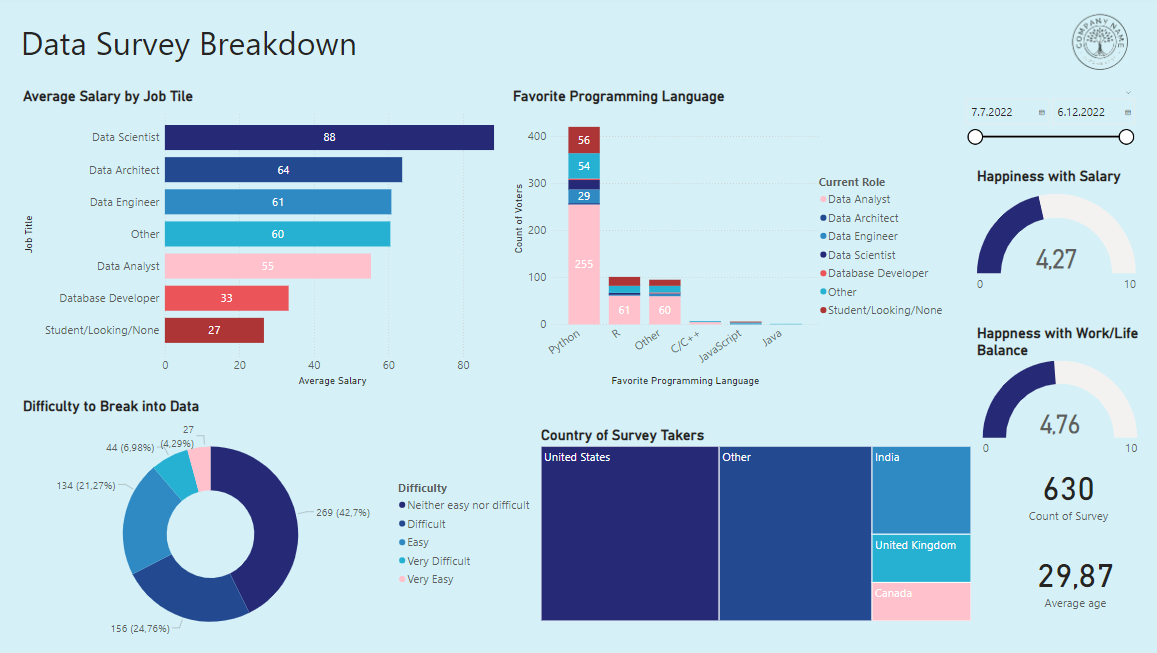

What the dashboard file says about the page in this screenshot:
{"tool":"powerbi","page":{"name":"Data","canvas":[1920,1090],"ordinal":0},"visuals":[{"type":"card","fields":{"Values":["CountNonNull(Data Survey.Unique ID)"]},"box":[1666.5,750.4,207.1,140.8],"z":0},{"type":"card","fields":{"Values":["Avg(Data Survey.Q10 - Current Age)"]},"box":[1689.7,891.3,183.9,149.1],"z":1000},{"type":"barChart","title":"Average Salary by Job Tile","fields":{"Category":["Data Survey.Q1 - Which Title Best Fits your Current Role?.1"],"Y":["Avg(Data Survey.Average Salary)"],"Series":["Data Survey.Q1 - Which Title Best Fits your Current Role?.1"]},"box":[33.1,152.4,811.7,498.6],"z":2000},{"type":"columnChart","title":"Favorite Programming Language","fields":{"Category":["Data Survey.Q5 - Favorite Programming Language.1"],"Y":["CountNonNull(Data Survey.Unique ID)"],"Series":["Data Survey.Q1 - Which Title Best Fits your Current Role?.1"]},"box":[844.9,152.4,730.6,498.6],"z":3000},{"type":"treemap","title":"Country of Survey Takers","fields":{"Group":["Data Survey.Q11 - Which Country do you live in?.1"],"Values":["CountNonNull(Data Survey.Q11 - Which Country do you live in?.1)"]},"box":[891.3,714,722.3,326.4],"z":4000},{"type":"gauge","title":"Happness with Work/Life Balance","fields":{"Y":["Avg(Data Survey.Q6 - How Happy are you in your Current Position with the following? (Upward Mobility))"],"MinValue":["Min(Data Survey.Q6 - How Happy are you in your Current Position with the following? (Upward Mobility))1"],"MaxValue":["Max(Data Survey.Q6 - How Happy are you in your Current Position with the following? (Upward Mobility))2"]},"box":[1613.5,545,284.9,227],"z":5000},{"type":"gauge","title":"Happiness with Salary","fields":{"MinValue":["Min(Data Survey.Q6 - How Happy are you in your Current Position with the following? (Salary))"],"MaxValue":["Max(Data Survey.Q6 - How Happy are you in your Current Position with the following? (Salary))1"],"Y":["Avg(Data Survey.Q6 - How Happy are you in your Current Position with the following? (Salary))2"]},"box":[1613.5,284.9,273.3,225.3],"z":6000},{"type":"donutChart","title":"Difficulty to Break into Data","fields":{"Y":["CountNonNull(Data Survey.Q7 - How difficult was it for you to break into Data?)"],"Category":["Data Survey.Q7 - How difficult was it for you to break into Data?"]},"box":[33.1,666,858.1,424.1],"z":7000},{"type":"slicer","fields":{"Values":["Data Survey.Date Taken (America/New_York)"]},"box":[1587,152.4,299.8,116],"z":8000},{"type":"textbox","box":[0,0,1920,144.1],"z":9000},{"type":"image","box":[1746.1,0,152.4,152.4],"z":9001}]}

Visuals, with their boxes in screenshot pixels (x1, y1, x2, y2), scaled from the page's 1920x1090 canvas onto the 1157x653 screenshot:
card - CountNonNull(Data Survey.Unique ID): [x1=1004, y1=450, x2=1129, y2=534]
card - Avg(Data Survey.Q10 - Current Age): [x1=1018, y1=534, x2=1129, y2=623]
"Average Salary by Job Tile" barChart: [x1=20, y1=91, x2=509, y2=390]
"Favorite Programming Language" columnChart: [x1=509, y1=91, x2=949, y2=390]
"Country of Survey Takers" treemap: [x1=537, y1=428, x2=972, y2=623]
"Happness with Work/Life Balance" gauge: [x1=972, y1=326, x2=1144, y2=462]
"Happiness with Salary" gauge: [x1=972, y1=171, x2=1137, y2=306]
"Difficulty to Break into Data" donutChart: [x1=20, y1=399, x2=537, y2=652]
slicer - Data Survey.Date Taken (America/New_York): [x1=956, y1=91, x2=1137, y2=161]
textbox: [x1=0, y1=0, x2=1156, y2=86]
image: [x1=1052, y1=0, x2=1144, y2=91]
